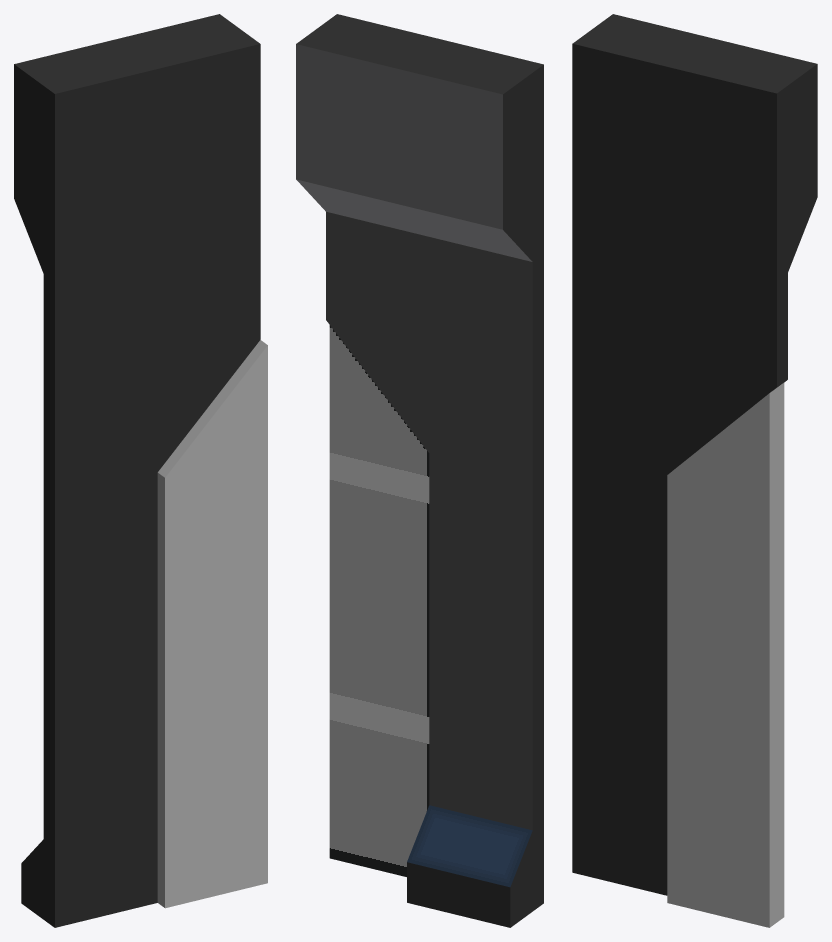
File: CalShipCargoWallDoorRight.gltf
The picture shows the model from 3 angles, left to right: view 1: azimuth 30°, elevation 25°; view 2: azimuth 150°, elevation 25°; view 3: azimuth 330°, elevation 25°; orthographic projection.
Parts seen in each view (by area): view 1: mesh; view 2: mesh; view 3: mesh.
Boxes of the visible parts, bbox=[...] form: mesh: bbox=[14, 14, 267, 927]; mesh: bbox=[296, 14, 543, 927]; mesh: bbox=[572, 14, 817, 927].
Size of the model in its own units: 1 by 3.88 by 0.4062.
1 material, 1 textured.
